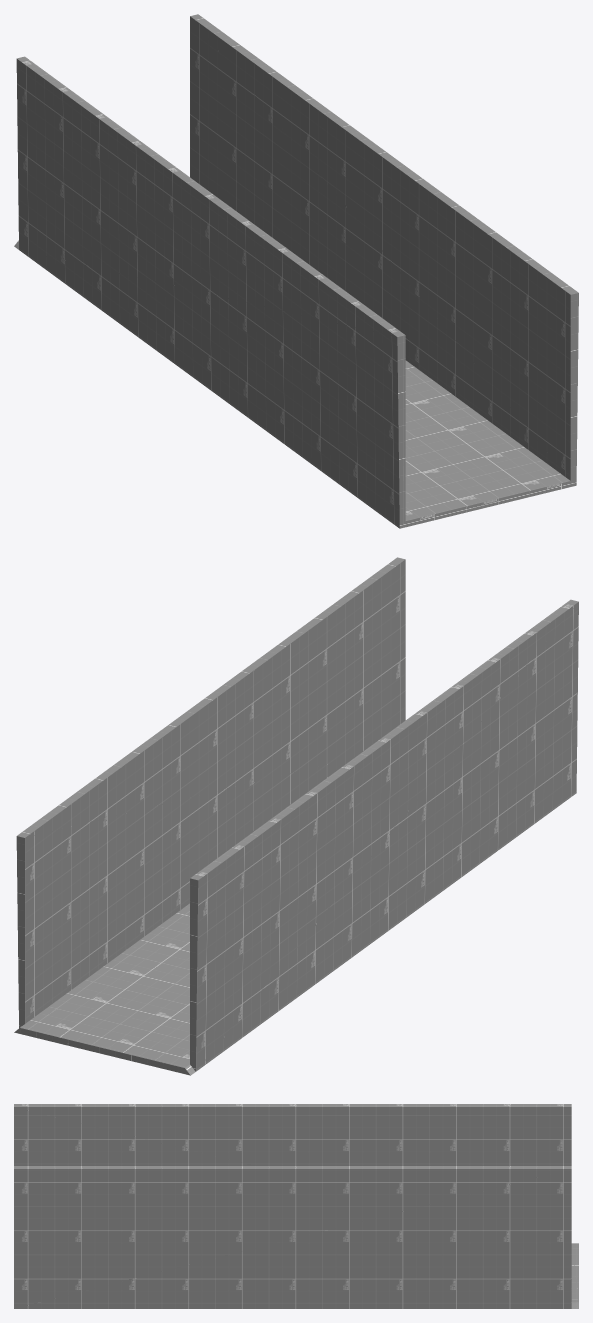
The model's file is hallway_1.obj.
3 renders of one model, top to bottom at view 1: azimuth 30°, elevation 25°; view 2: azimuth 150°, elevation 25°; view 3: azimuth 270°, elevation 25°, orthographic. The views are drawn at different scales.
Visible parts, largest first — view 1: гук_ук1; view 2: гук_ук1; view 3: гук_ук1.
Boxes of the visible parts, <box> form: гук_ук1: <box>14,14,578,528</box>; гук_ук1: <box>14,557,578,1075</box>; гук_ук1: <box>14,1104,578,1308</box>.
Bounding box in the file's own units: 1.1 × 1.11 × 4.05.
